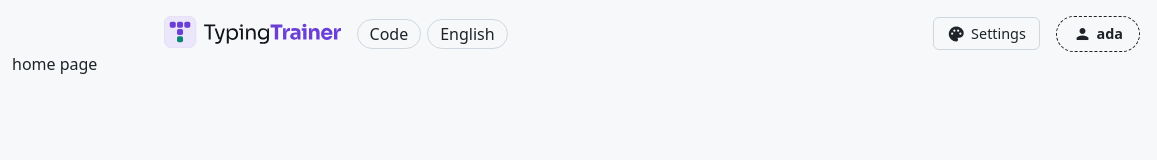
Test: the shared header › follows a track, the logo leads home, and the settings are apart from the tracks
Click the link "English" at (467, 34), box [427,19,508,49]
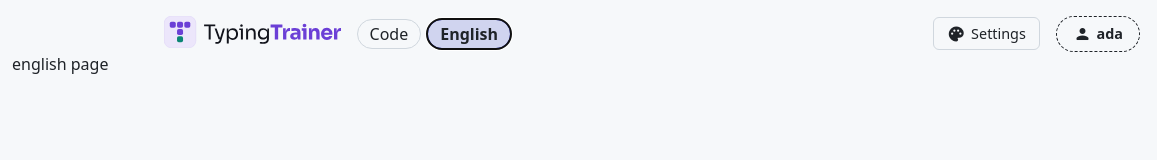
Now the text "english page" is shown, box [12,53,108,75]
Click the link named "TypingTrainer" at (252, 32), box [164,16,341,48]
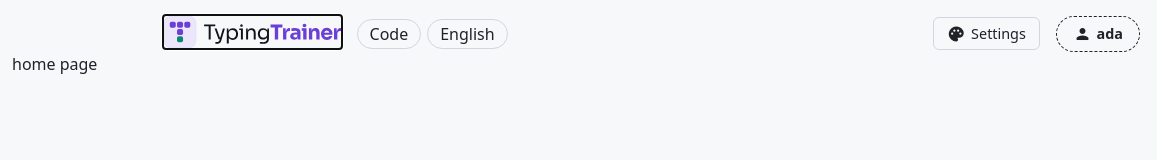
Now the text "home page" is shown, box [12,53,97,75]
Click the link "Settings" at (987, 34), box [933,17,1040,50]
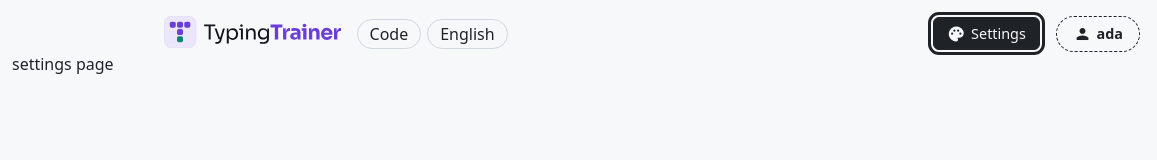
Now the text "settings page" is shown, box [12,53,114,75]
